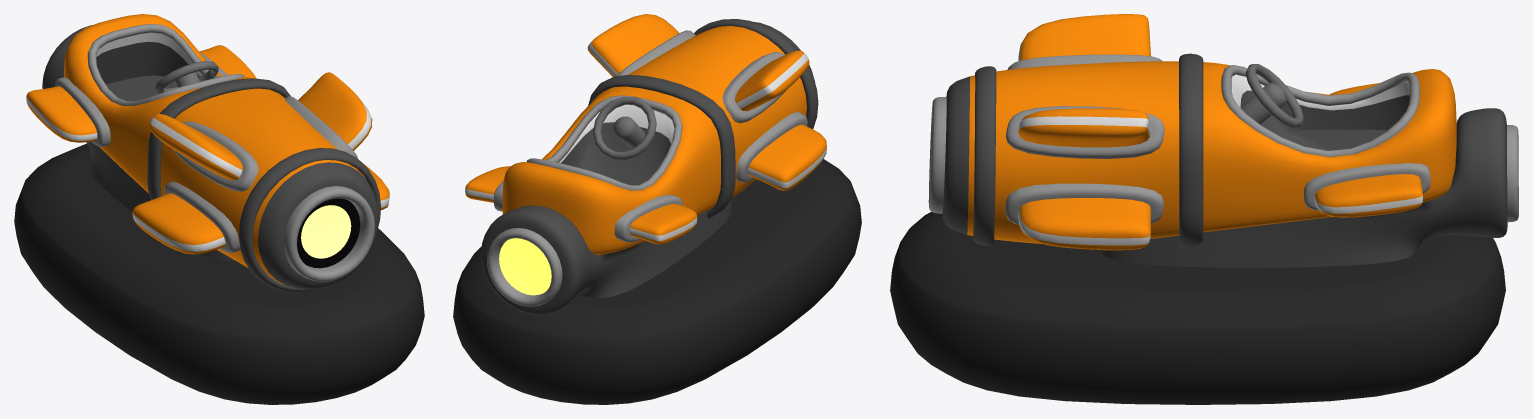
The model's file is mesh_Car_Menu_T.fbx.
3 views of the same model, side by side, from view 1: azimuth 30°, elevation 25°; view 2: azimuth 150°, elevation 25°; view 3: azimuth 270°, elevation 25° (orthographic). The views are drawn at different scales.
Visible parts, largest first — view 1: mesh_Car_Menu_T; view 2: mesh_Car_Menu_T; view 3: mesh_Car_Menu_T.
Part boxes in pixels (<box>): mesh_Car_Menu_T: <box>14,14,424,404</box>; mesh_Car_Menu_T: <box>453,14,861,404</box>; mesh_Car_Menu_T: <box>890,14,1518,404</box>.
Size of the model in its own units: 1.79 by 1.53 by 3.04.
